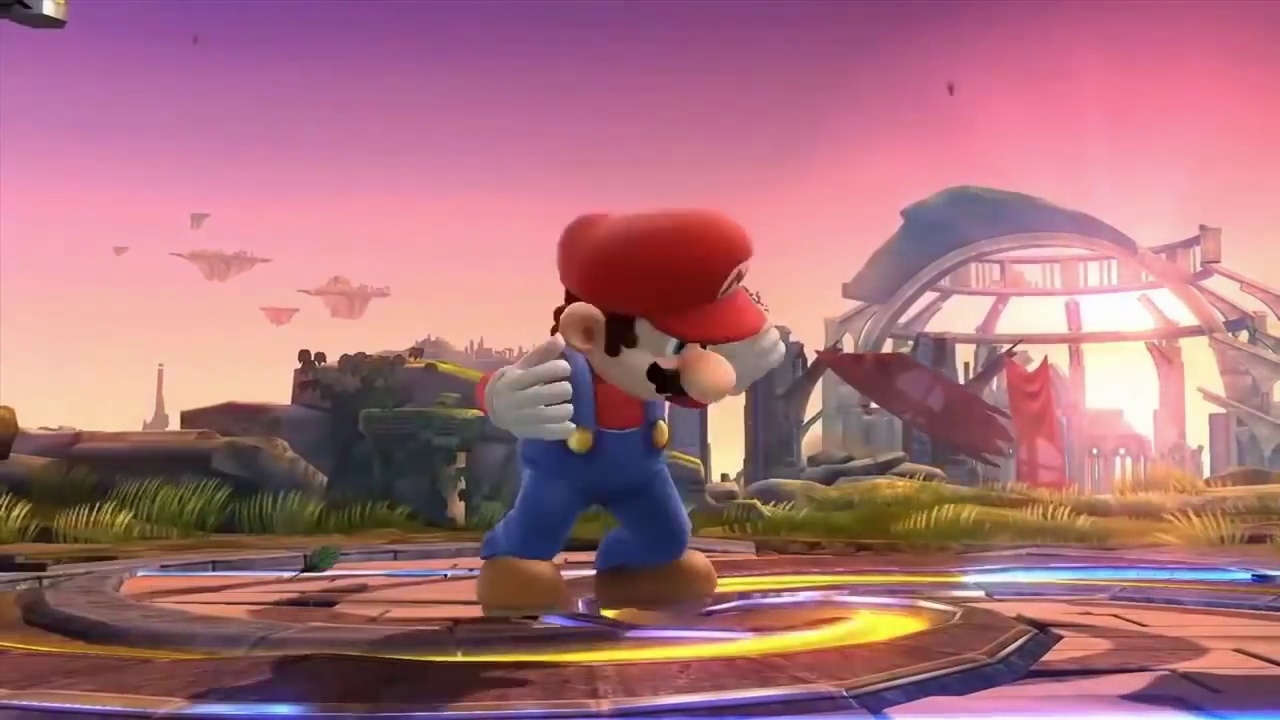Mario: (476, 210, 785, 607)
